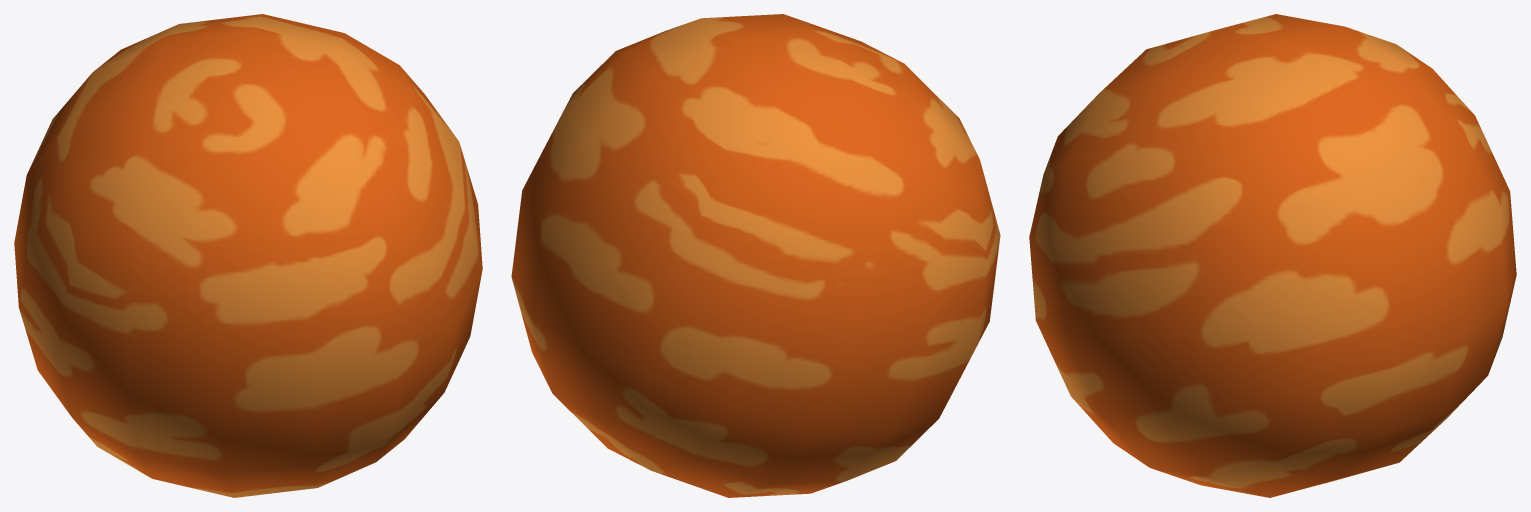
File: first_layer.obj
3 views of the same model, side by side, from view 1: azimuth 30°, elevation 25°; view 2: azimuth 150°, elevation 25°; view 3: azimuth 270°, elevation 25° (orthographic). The views are drawn at different scales.
Visible parts, largest first — view 1: base_planet_Cube.003; view 2: base_planet_Cube.003; view 3: base_planet_Cube.003.
Boxes of the visible parts, bbox=[...] form: base_planet_Cube.003: bbox=[14, 14, 482, 497]; base_planet_Cube.003: bbox=[511, 14, 1000, 497]; base_planet_Cube.003: bbox=[1029, 14, 1516, 497].
Size of the model in its own units: 1.68 by 1.69 by 1.71.
1 material, 1 textured.
